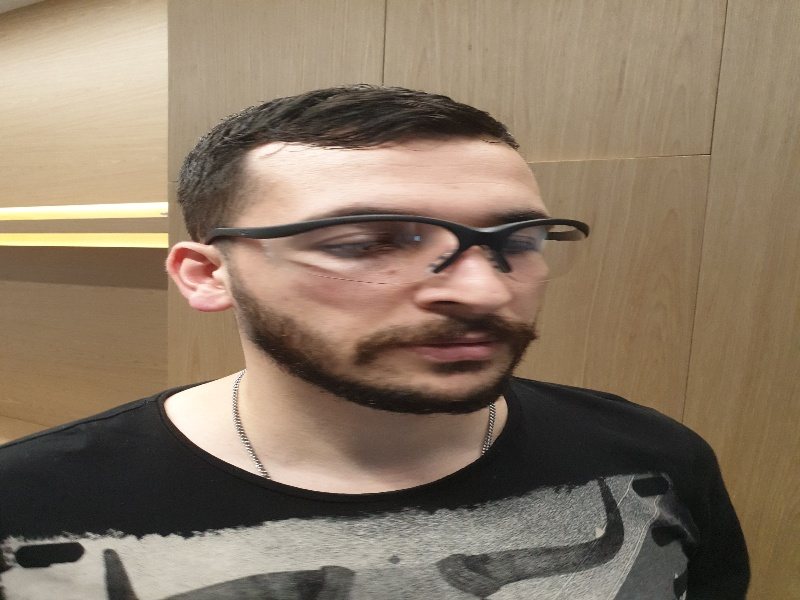Gozluk: (201, 213, 591, 279)
